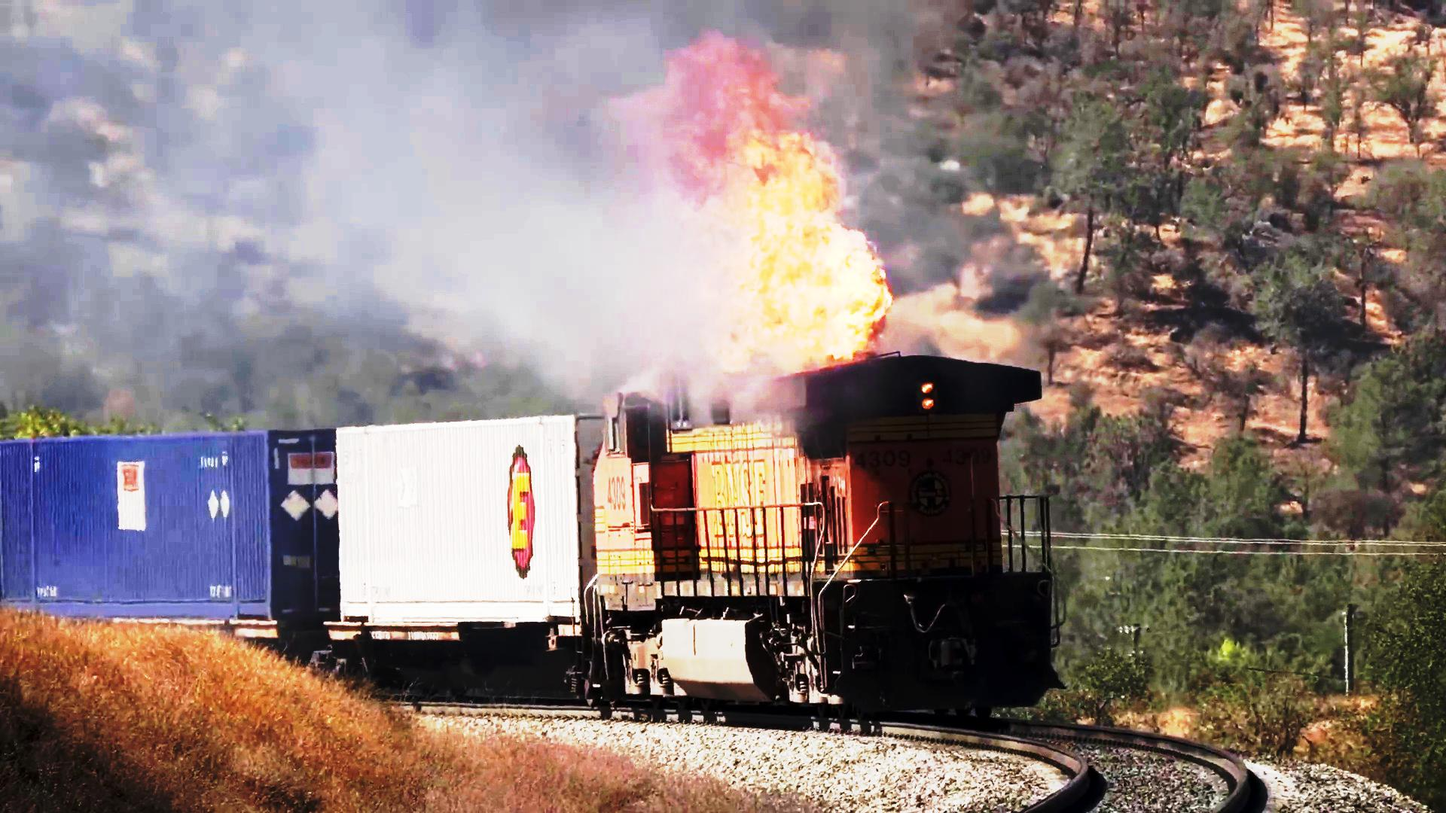fire: (637, 34, 894, 345)
